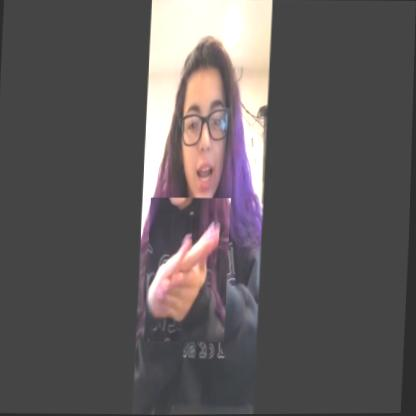NiceToMeetYou: (145, 197, 232, 343)
